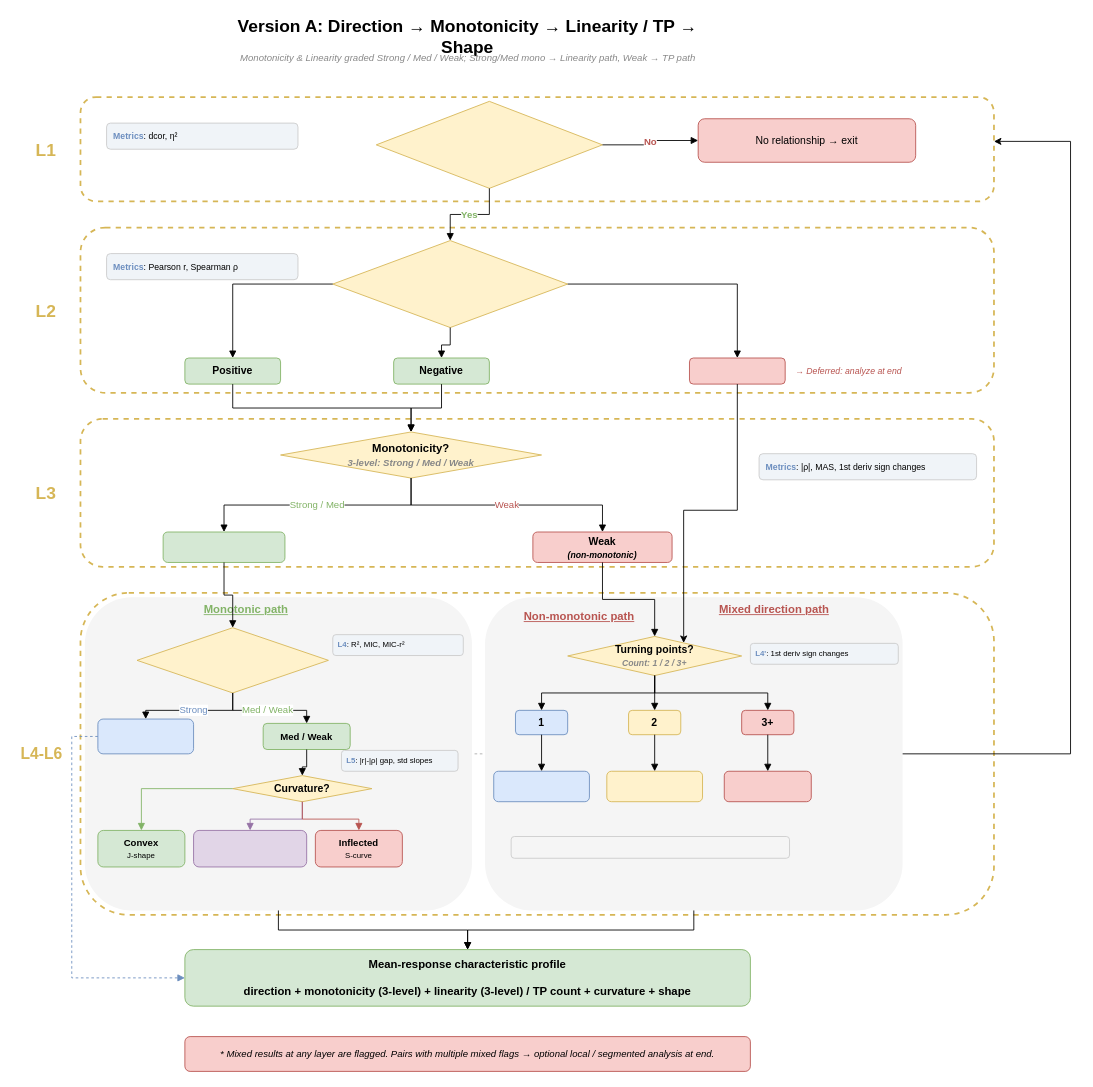
Image size: 1093x1087. Some labels were removed from this diagram. Here are the shapes that lost their labels. From the top down, the centre of each, then its label:
point (488, 144): Has relationship? Binary: Yes / No
point (450, 284): Direction? 3 labels: Pos / Neg / Mixed
point (737, 370): Mixed
point (223, 546): Strong / Med (monotonic)
point (232, 660): Linearity? Strong / Med / Weak
point (145, 736): Strong Shape = Line
point (541, 786): U / Inverted-U
point (654, 786): Cubic / N-shape
point (767, 786): Oscillatory
point (250, 848): Concave Saturation / L-shape
point (650, 847): Optional: per-segment → each segment walks mono path
